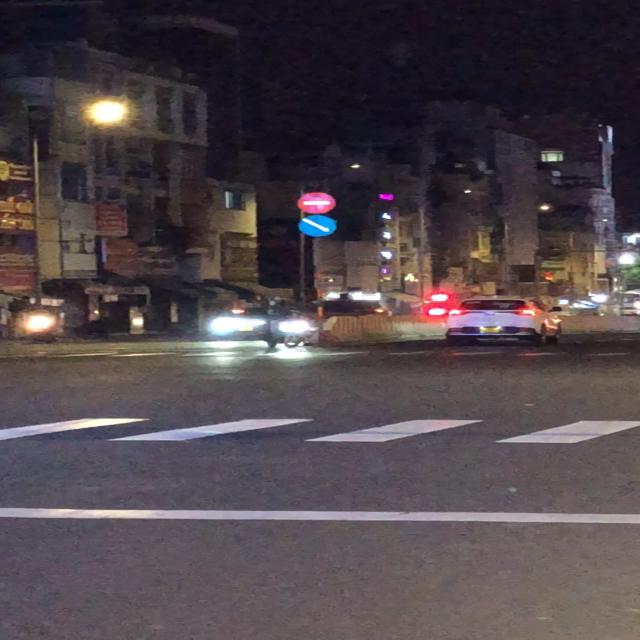Bien bao cam di nguoc chieu: (294, 190, 336, 214)
Bien bao huong phai di vong chuong ngai vat: (296, 215, 340, 238)
